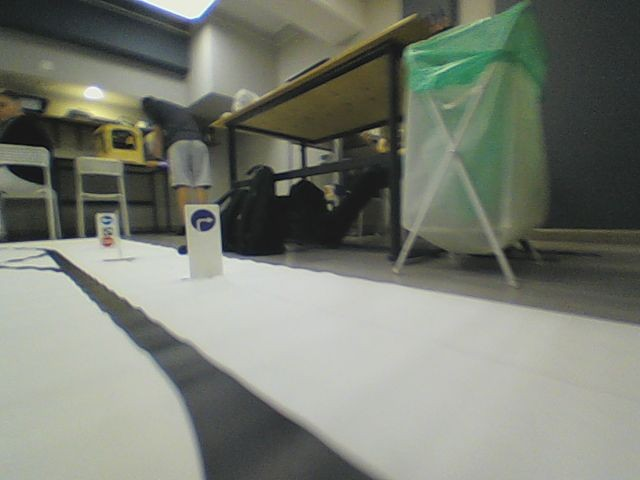Right: (189, 208, 217, 233)
